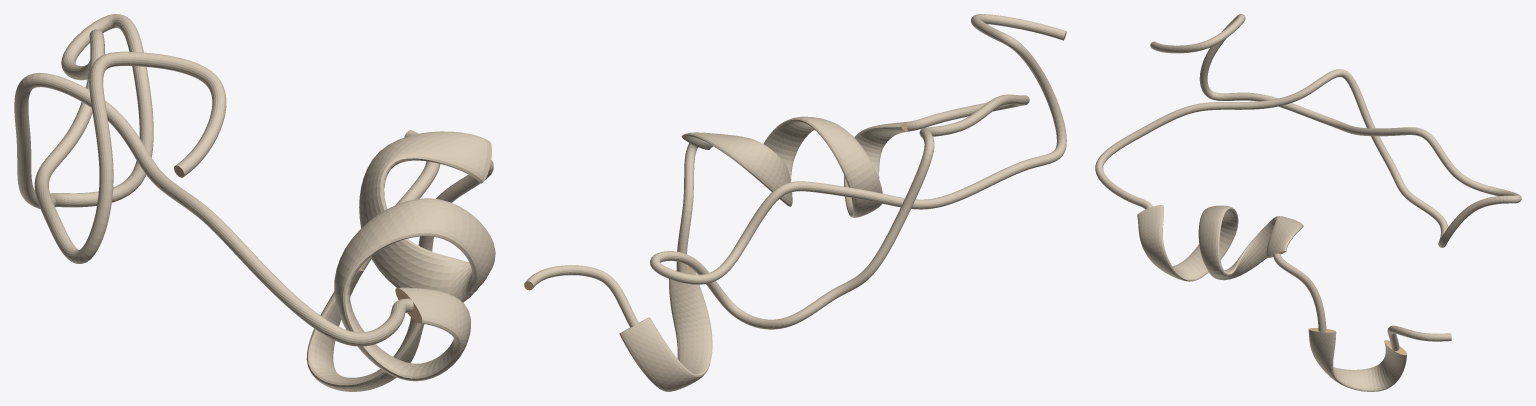
The model's file is fCoilfCoilrCoil.dae.
The picture shows the model from 3 angles, left to right: view 1: azimuth 30°, elevation 25°; view 2: azimuth 150°, elevation 25°; view 3: azimuth 270°, elevation 25°; orthographic projection. The views are drawn at different scales.
Visible parts, largest first — view 1: Shape_IndexedTriangleStripSet_042; view 2: Shape_IndexedTriangleStripSet_042; view 3: Shape_IndexedTriangleStripSet_042.
Boxes of the visible parts, bbox=[...] form: Shape_IndexedTriangleStripSet_042: bbox=[14, 14, 495, 391]; Shape_IndexedTriangleStripSet_042: bbox=[524, 14, 1066, 391]; Shape_IndexedTriangleStripSet_042: bbox=[1095, 14, 1521, 391].
Size of the model in its own units: 22.68 by 26.98 by 19.62.
